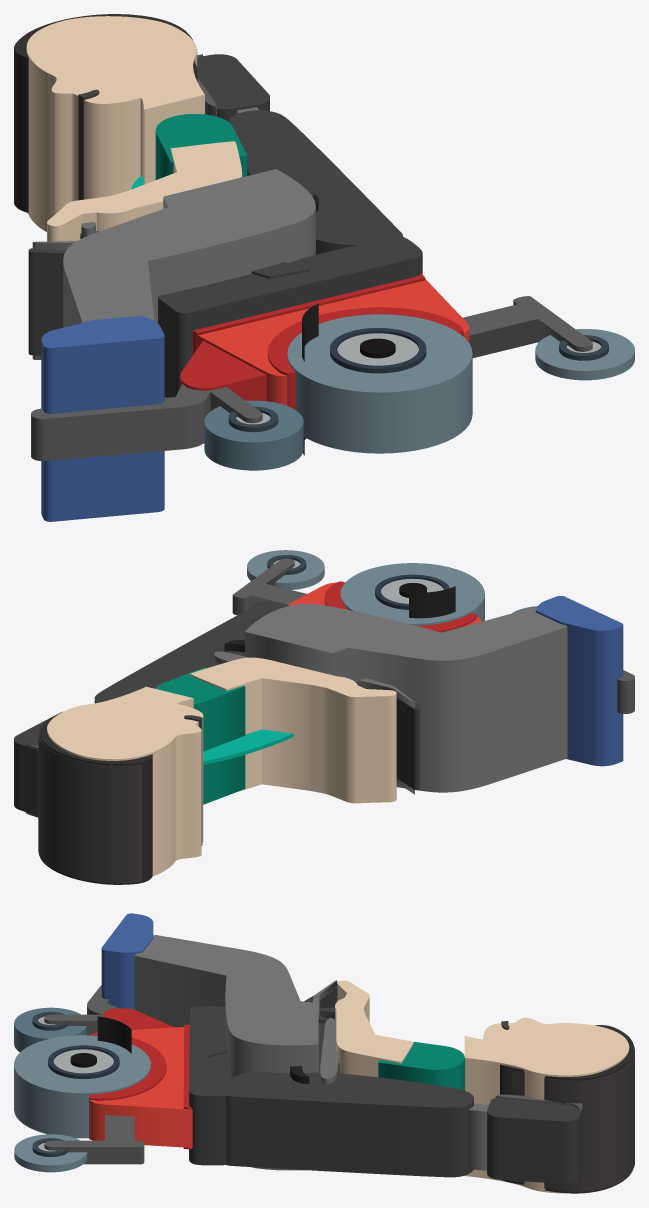
The model's file is emoji_u1f468_1f3fb_200d_1f9bc.glb.
The picture shows the model from 3 angles, top to bottom: view 1: azimuth 30°, elevation 25°; view 2: azimuth 150°, elevation 25°; view 3: azimuth 270°, elevation 25°; orthographic projection. The views are drawn at different scales.
Visible parts, largest first — view 1: emoji_u1f468_1f3fb_200d_1f9bc; view 2: emoji_u1f468_1f3fb_200d_1f9bc; view 3: emoji_u1f468_1f3fb_200d_1f9bc.
Part boxes in pixels (x1=…): emoji_u1f468_1f3fb_200d_1f9bc: x1=14, y1=14, x2=634, y2=521; emoji_u1f468_1f3fb_200d_1f9bc: x1=14, y1=550, x2=634, y2=884; emoji_u1f468_1f3fb_200d_1f9bc: x1=14, y1=913, x2=634, y2=1193.
Size of the model in its own units: 0.0242 by 0.0074 by 0.0324.
